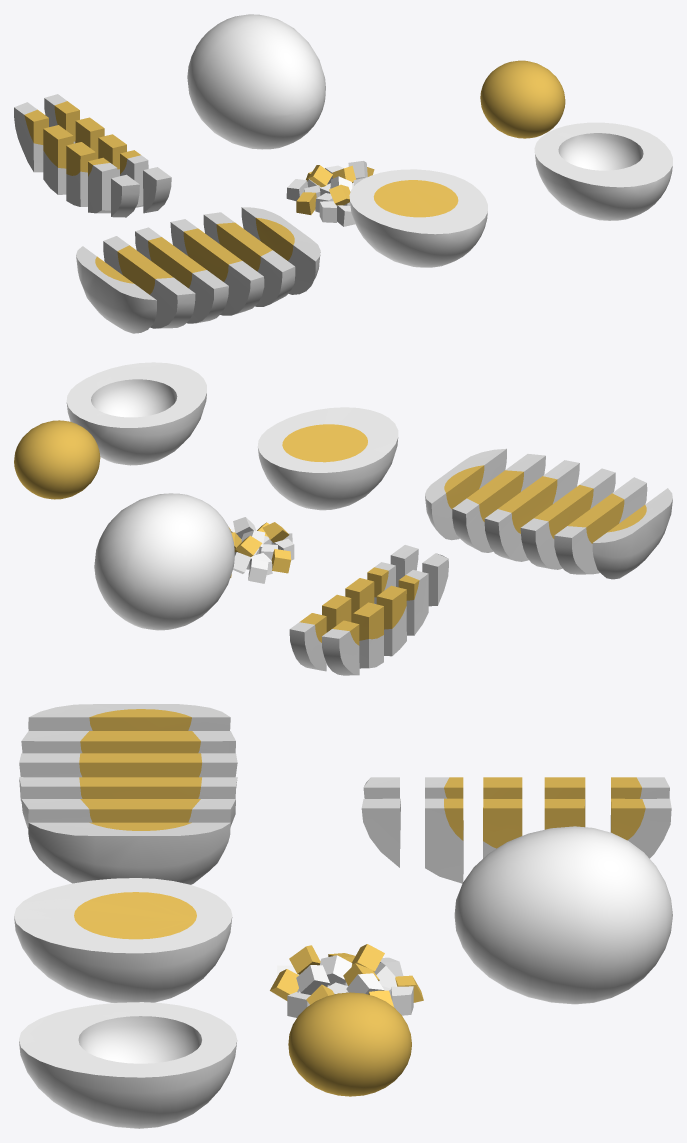
File: hardBoiledEggCookingset.fbx
3 views of the same model, one above another, from view 1: azimuth 30°, elevation 25°; view 2: azimuth 150°, elevation 25°; view 3: azimuth 270°, elevation 25° (orthographic). The views are drawn at different scales.
Parts seen in each view (by area): view 1: Cylinder.005, Cylinder.003, Cylinder.006, Cylinder.002, Cylinder.000, Cylinder.001, Cylinder.004, Cube; view 2: Cylinder.005, Cylinder.003, Cylinder.002, Cylinder.006, Cylinder.000, Cylinder.001, Cylinder.004, Cube; view 3: Cylinder.005, Cylinder.003, Cylinder.006, Cylinder.002, Cylinder.004, Cylinder.001, Cube, Cylinder.000.
Part boxes in pixels (<box>): Cylinder.005: <box>76,207,320,333</box>; Cylinder.003: <box>187,14,325,149</box>; Cylinder.006: <box>534,122,672,220</box>; Cylinder.002: <box>349,169,487,267</box>; Cylinder.000: <box>14,102,139,217</box>; Cylinder.001: <box>480,60,565,138</box>; Cylinder.004: <box>44,94,171,213</box>; Cube: <box>286,161,374,226</box>; Cylinder.005: <box>425,448,672,579</box>; Cylinder.003: <box>94,493,234,630</box>; Cylinder.002: <box>257,407,398,510</box>; Cylinder.006: <box>66,362,206,465</box>; Cylinder.000: <box>321,553,448,675</box>; Cylinder.001: <box>14,420,100,499</box>; Cylinder.004: <box>289,545,418,671</box>; Cube: <box>229,517,294,583</box>; Cylinder.005: <box>19,704,237,884</box>; Cylinder.003: <box>454,826,672,1004</box>; Cylinder.006: <box>19,1002,237,1128</box>; Cylinder.002: <box>14,878,232,1002</box>; Cylinder.004: <box>361,798,671,883</box>; Cylinder.001: <box>288,992,411,1096</box>; Cube: <box>270,944,423,1017</box>; Cylinder.000: <box>363,777,669,832</box>.
Size of the model in its own units: 189 by 39.03 by 141.
